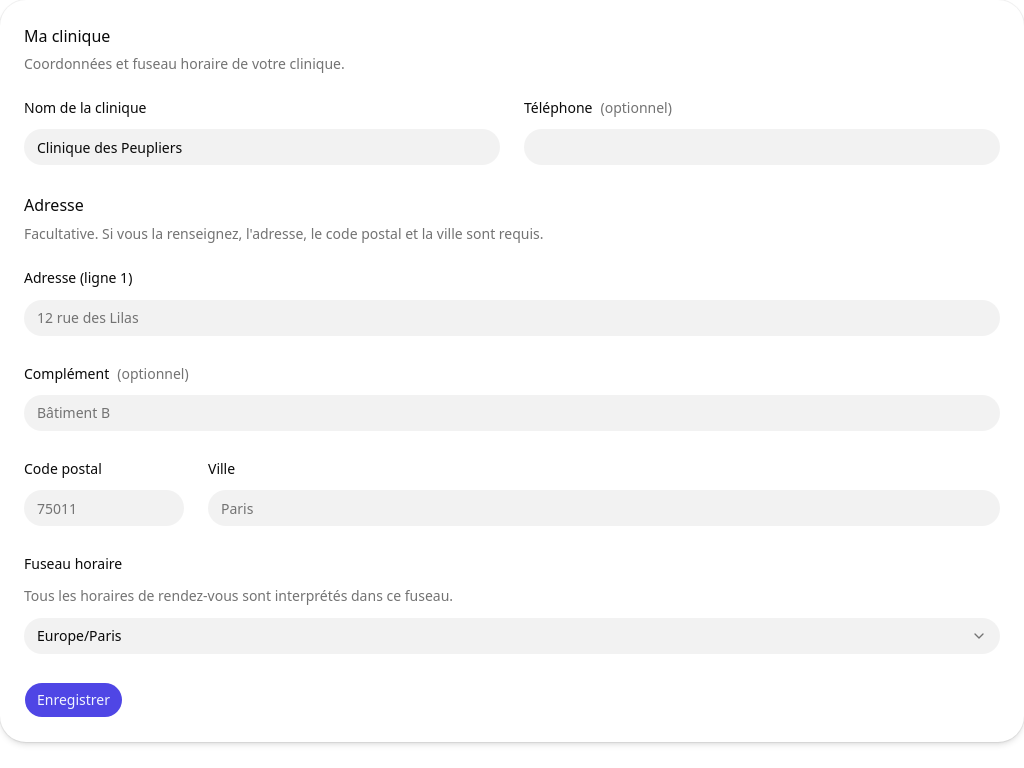
ClinicForm — validation locale › refuse un nom trop court sans appeler le serveur
Replace the text in the field labelled "Nom de la clinique" with "A" at x=262, y=147, box 24,129 -> 500,165
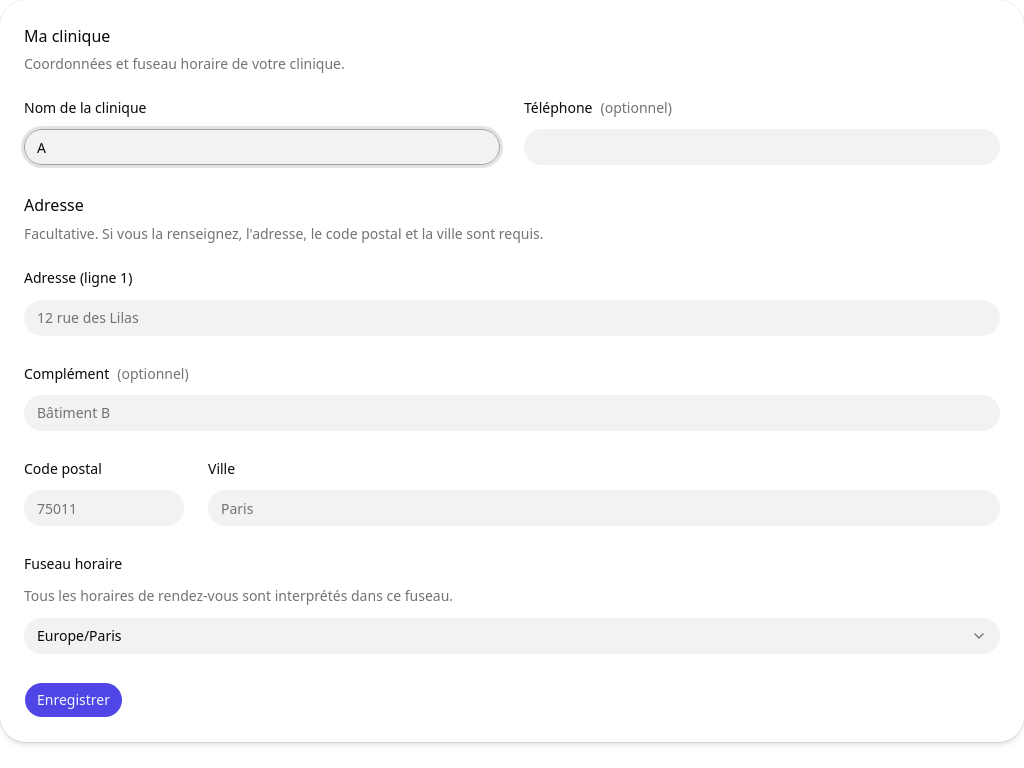
Click the button "Enregistrer" at x=74, y=700, box 24,682 -> 123,718
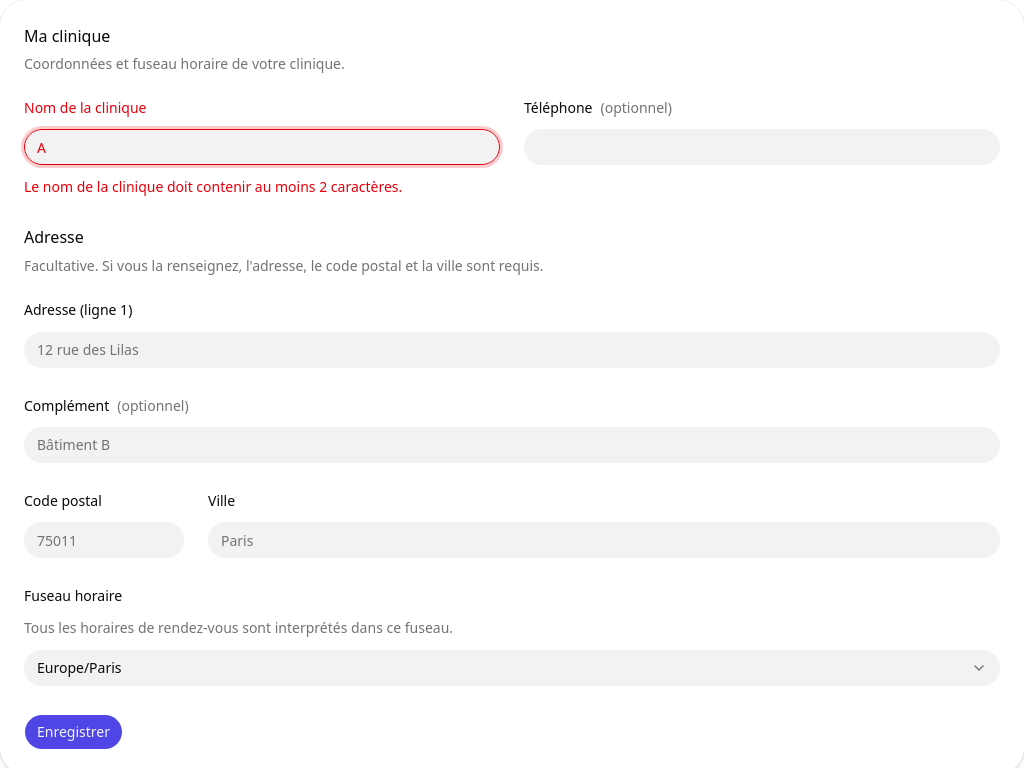
Result: the text "Le nom de la clinique doit contenir au moins 2 caractères." is shown at 24,177 -> 402,196
